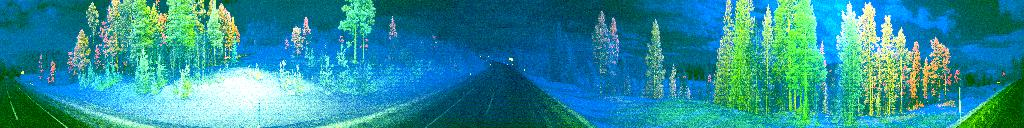pole: (956, 84, 964, 122), (254, 99, 264, 128)
